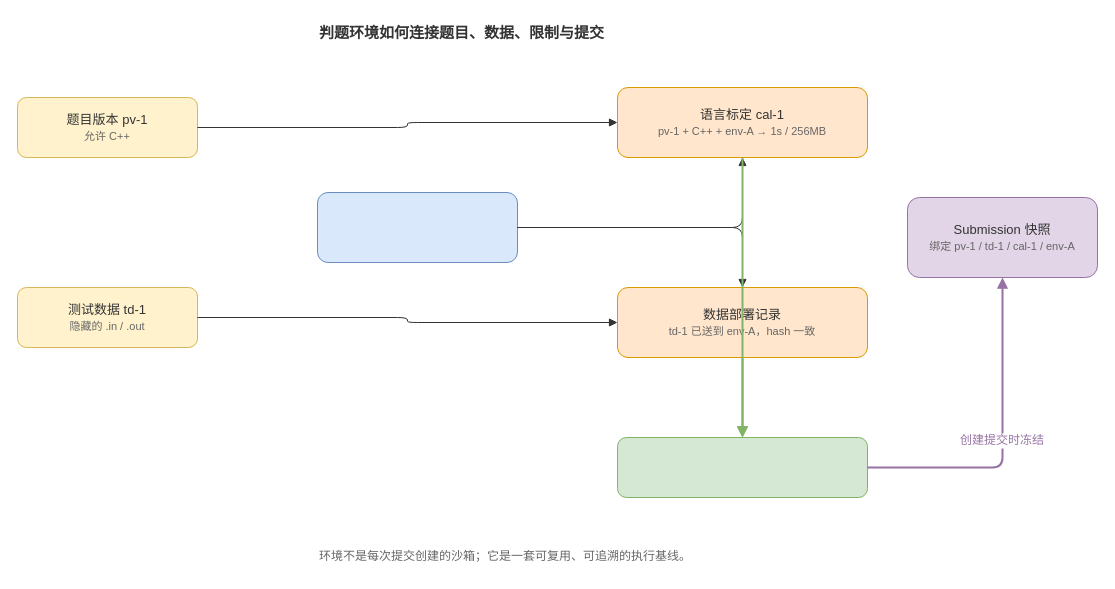
Image size: 1115x589. Some labels were removed from this diagram. The shapes that lost their labels are listed below. From the top down, each one's centre as x and y in pixels, then its label:
At pixel 417 227: "判题环境 env-A CPU + 系统 + g++ + judge".
At pixel 742 467: "两个条件都 READY 数据可读 + 限制有效".
